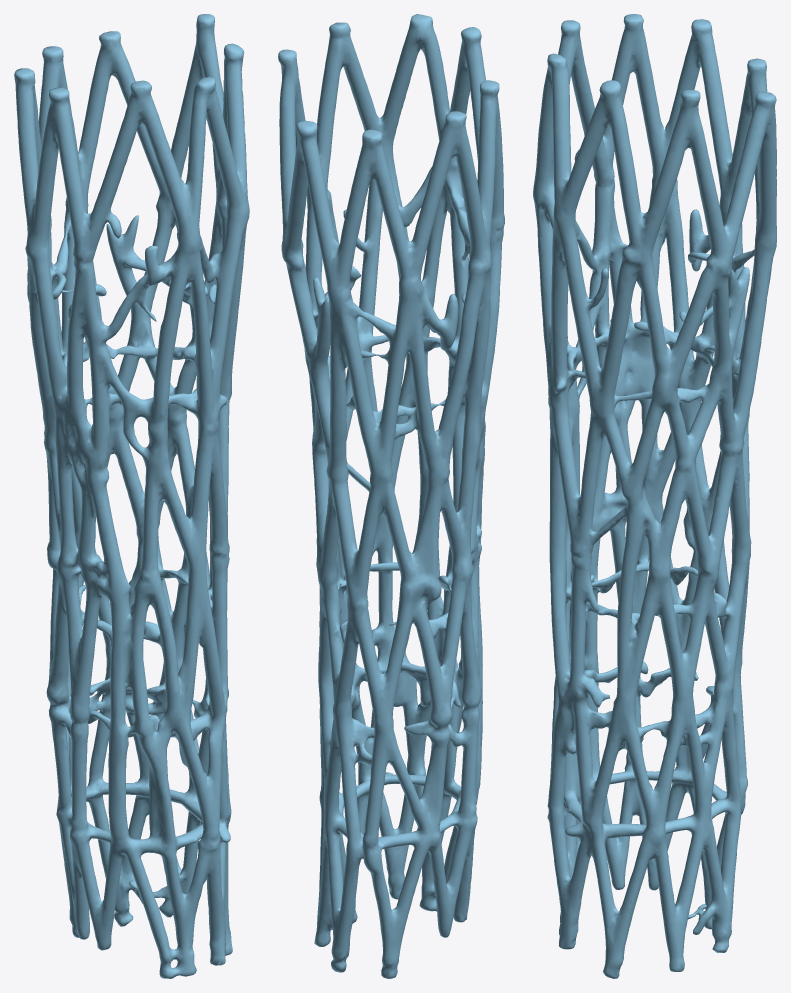
Rendered from wall-stent.glb.
The picture shows the model from 3 angles, left to right: view 1: azimuth 30°, elevation 25°; view 2: azimuth 150°, elevation 25°; view 3: azimuth 270°, elevation 25°; orthographic projection.
Parts seen in each view (by area): view 1: wall-stent-01; view 2: wall-stent-01; view 3: wall-stent-01.
Boxes of the visible parts, x1=… form: wall-stent-01: x1=14, y1=14, x2=249, y2=978; wall-stent-01: x1=278, y1=14, x2=504, y2=978; wall-stent-01: x1=533, y1=14, x2=776, y2=978.
Bounding box in the file's own units: 0.4575 × 2 × 0.4888.
